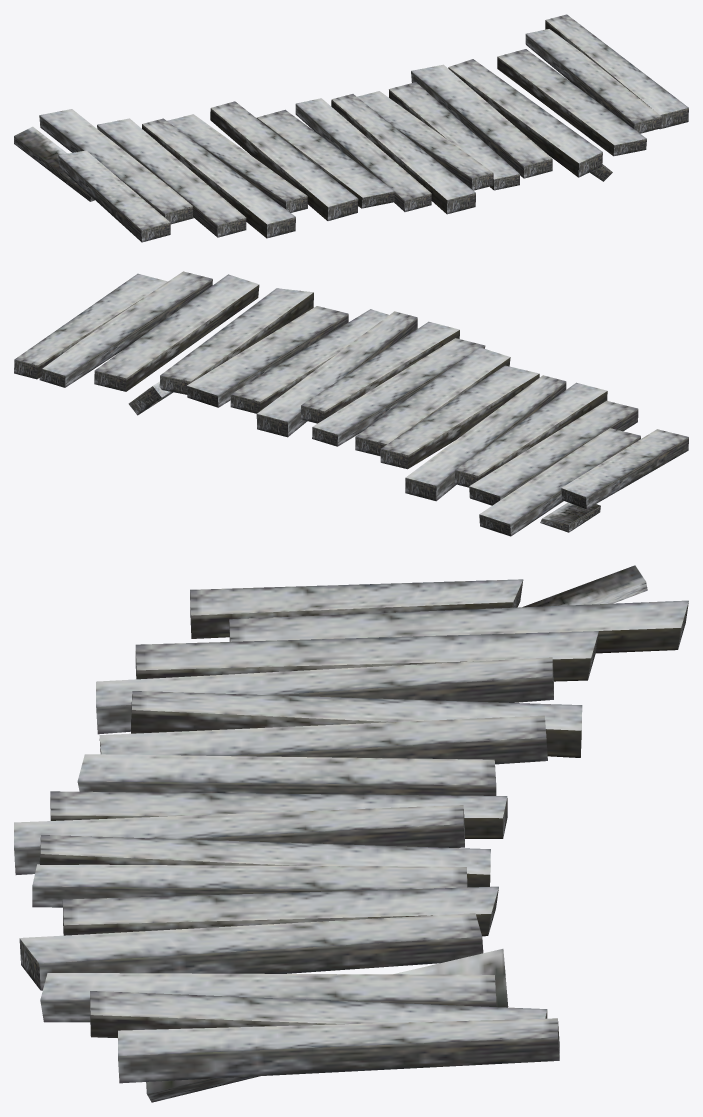
File: S_Build_Snowland079.FBX
The picture shows the model from 3 angles, top to bottom: view 1: azimuth 30°, elevation 25°; view 2: azimuth 150°, elevation 25°; view 3: azimuth 270°, elevation 25°; orthographic projection. The views are drawn at different scales.
Visible parts, largest first — view 1: S_Build_Snowland079; view 2: S_Build_Snowland079; view 3: S_Build_Snowland079.
Boxes of the visible parts, x1,y1,x2,y2 form: S_Build_Snowland079: (14,14,688,242); S_Build_Snowland079: (14,271,688,536); S_Build_Snowland079: (14,565,688,1102).
Bounding box in the file's own units: 920 × 537 × 115.
